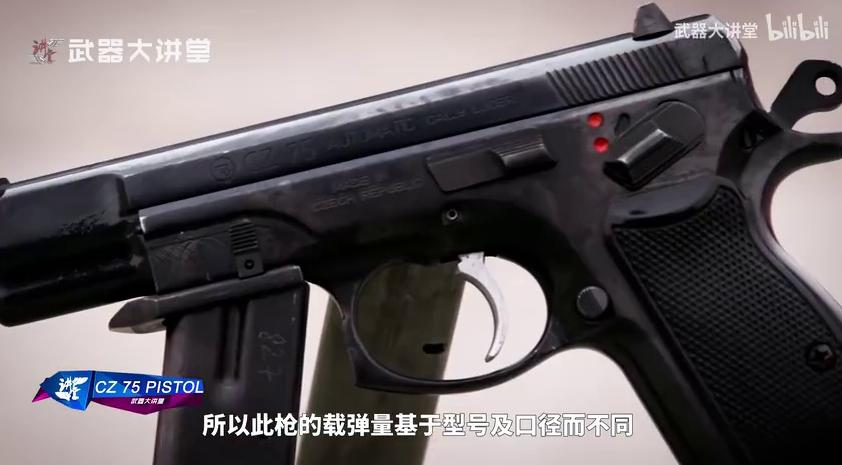gun: (1, 1, 842, 465)
